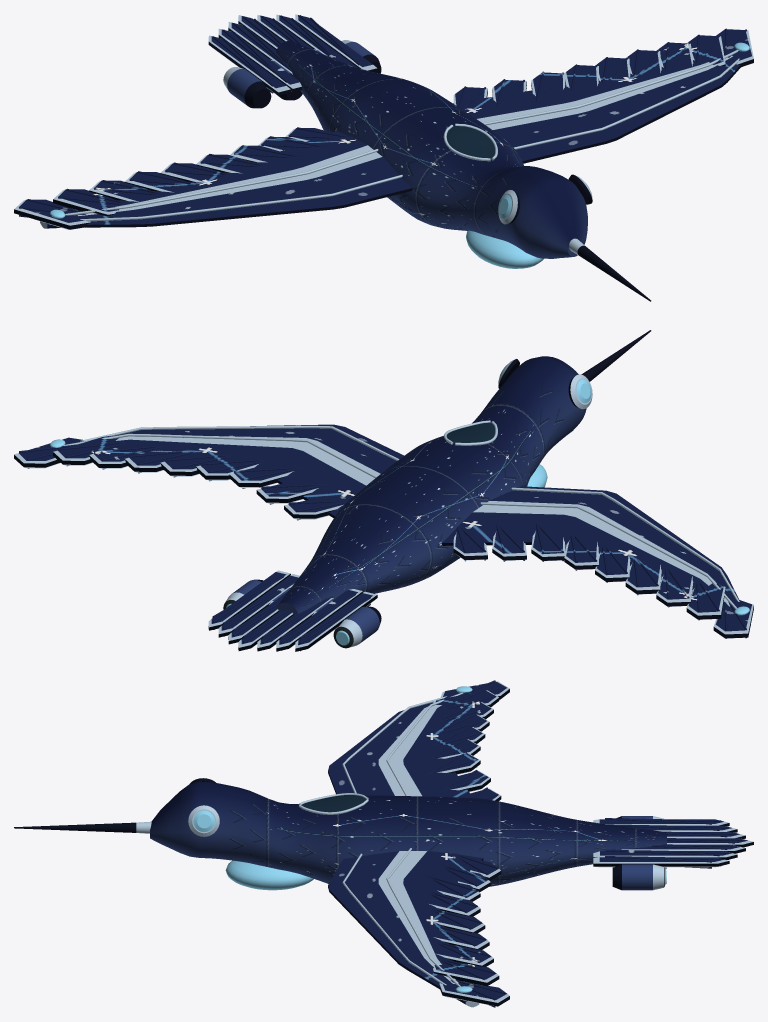
The picture shows the model from 3 angles, top to bottom: view 1: azimuth 30°, elevation 25°; view 2: azimuth 150°, elevation 25°; view 3: azimuth 270°, elevation 25°; orthographic projection. The views are drawn at different scales.
Visible parts, largest first — view 1: hummingbird_hull; view 2: hummingbird_hull; view 3: hummingbird_hull.
Boxes of the visible parts, x1,y1,x2,y2 form: hummingbird_hull: [14, 14, 753, 301]; hummingbird_hull: [14, 330, 753, 651]; hummingbird_hull: [14, 680, 753, 1007].
Size of the model in its own units: 17 by 2.47 by 16.53.
1 material, 1 textured.
